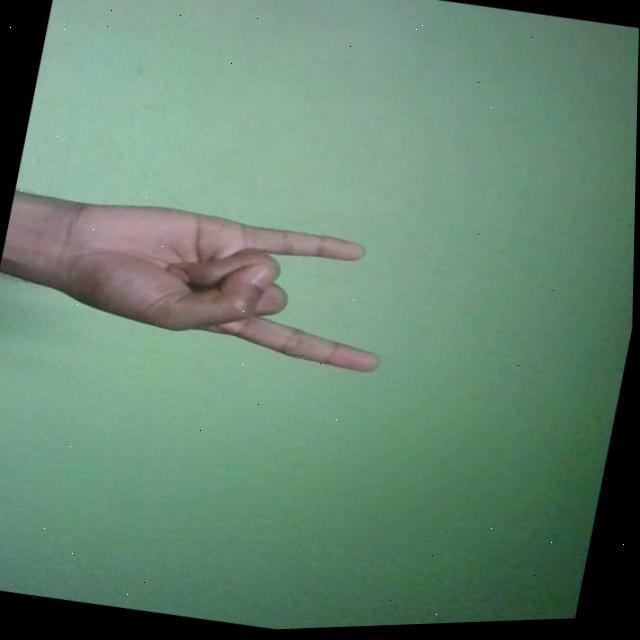Rock On: (31, 183, 407, 388)
